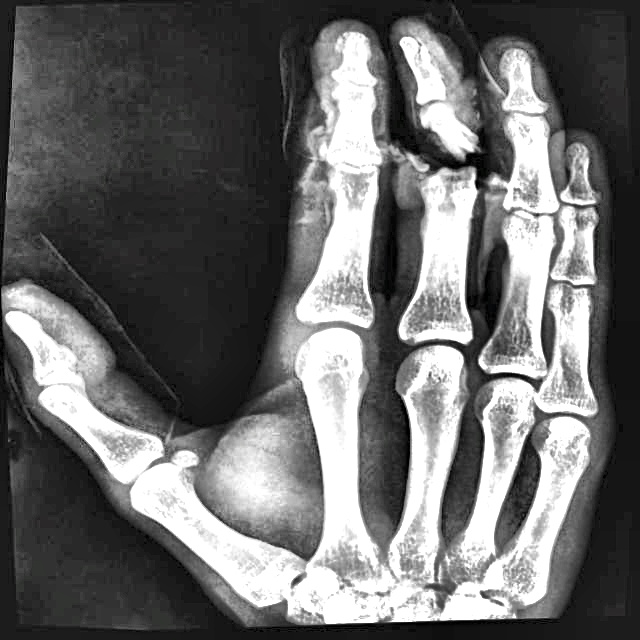Transverse: (412, 98, 487, 196)
